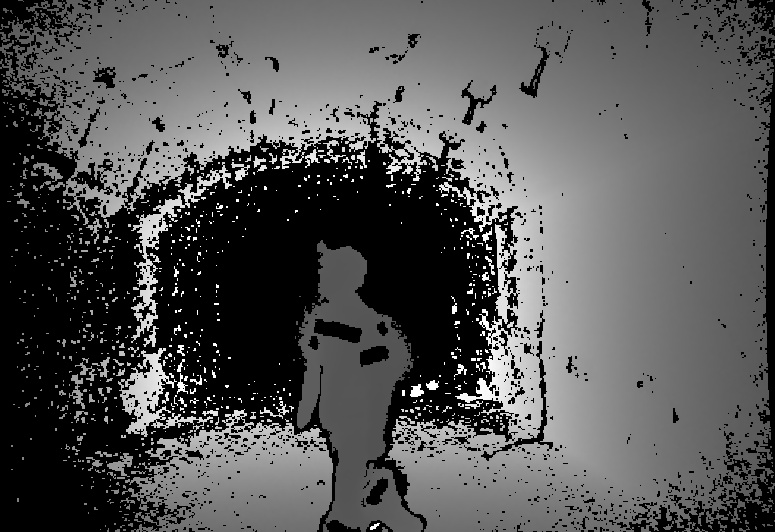person: (297, 238, 425, 532)
